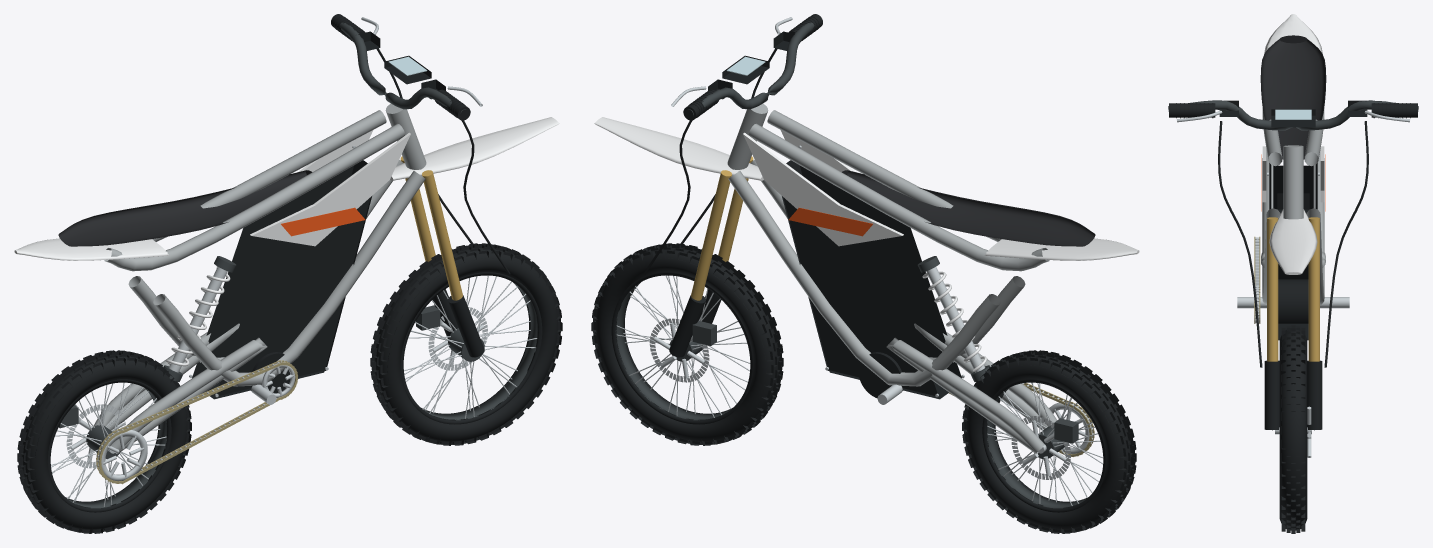
The model's file is kukirin-x1.glb.
3 views of the same model, side by side, from view 1: azimuth 30°, elevation 25°; view 2: azimuth 150°, elevation 25°; view 3: azimuth 270°, elevation 25° (orthographic).
Visible parts, largest first — view 1: BatteryMount | black, Chassis | silvergrey, FrontWheel | rubber, RearWheel | rubber, Bodywork | white, Bodywork | seat, RearSuspension | silvergrey, FrontWheel | steel, RearWheel | steel, Drive | steel, FrontWheel | graphite, Fork | gold (+11 smaller); view 2: BatteryMount | black, Chassis | silvergrey, FrontWheel | rubber, RearWheel | rubber, Bodywork | white, Bodywork | seat, RearSuspension | silvergrey, FrontWheel | steel, RearWheel | steel, Fork | gold, FrontWheel | graphite, FrontWheel | black (+11 smaller); view 3: FrontWheel | rubber, Bodywork | seat, Chassis | silvergrey, Bodywork | white, Fork | gold, Cockpit | rubber, Fork | black, BatteryMount | black, Cockpit | graphite, MotorMount | black, Cockpit | black, Drive | steel (+3 smaller).
Boxes of the visible parts, x1=… form: BatteryMount | black: x1=192, y1=160, x2=371, y2=399; Chassis | silvergrey: x1=104, y1=103, x2=426, y2=386; FrontWheel | rubber: x1=370, y1=243, x2=562, y2=445; RearWheel | rubber: x1=17, y1=350, x2=191, y2=533; Bodywork | white: x1=14, y1=117, x2=559, y2=260; Bodywork | seat: x1=58, y1=170, x2=321, y2=246; RearSuspension | silvergrey: x1=93, y1=323, x2=267, y2=453; FrontWheel | steel: x1=404, y1=275, x2=537, y2=418; RearWheel | steel: x1=51, y1=382, x2=166, y2=506; Drive | steel: x1=97, y1=361, x2=295, y2=481; FrontWheel | graphite: x1=416, y1=283, x2=537, y2=420; Fork | gold: x1=400, y1=156, x2=462, y2=300; BatteryMount | black: x1=782, y1=160, x2=961, y2=399; Chassis | silvergrey: x1=727, y1=103, x2=1049, y2=386; FrontWheel | rubber: x1=591, y1=243, x2=783, y2=445; RearWheel | rubber: x1=962, y1=350, x2=1136, y2=533; Bodywork | white: x1=594, y1=117, x2=1139, y2=260; Bodywork | seat: x1=832, y1=170, x2=1095, y2=246; RearSuspension | silvergrey: x1=886, y1=323, x2=1057, y2=453; FrontWheel | steel: x1=616, y1=275, x2=750, y2=417; RearWheel | steel: x1=987, y1=382, x2=1103, y2=505; Fork | gold: x1=691, y1=156, x2=753, y2=300; FrontWheel | graphite: x1=615, y1=283, x2=731, y2=420; FrontWheel | black: x1=611, y1=272, x2=753, y2=424; FrontWheel | rubber: x1=1279, y1=325, x2=1307, y2=533; Bodywork | seat: x1=1260, y1=35, x2=1326, y2=159; Chassis | silvergrey: x1=1262, y1=109, x2=1324, y2=304; Bodywork | white: x1=1262, y1=14, x2=1324, y2=274; Fork | gold: x1=1267, y1=217, x2=1319, y2=361; Cockpit | rubber: x1=1169, y1=103, x2=1417, y2=367; Fork | black: x1=1264, y1=360, x2=1322, y2=430; BatteryMount | black: x1=1269, y1=163, x2=1317, y2=340; Cockpit | graphite: x1=1168, y1=100, x2=1418, y2=130; MotorMount | black: x1=1278, y1=279, x2=1308, y2=323; Cockpit | black: x1=1176, y1=100, x2=1410, y2=127; Drive | steel: x1=1237, y1=237, x2=1349, y2=323.
Bounding box in the file's own units: 1.53 × 1.07 × 0.6236.
